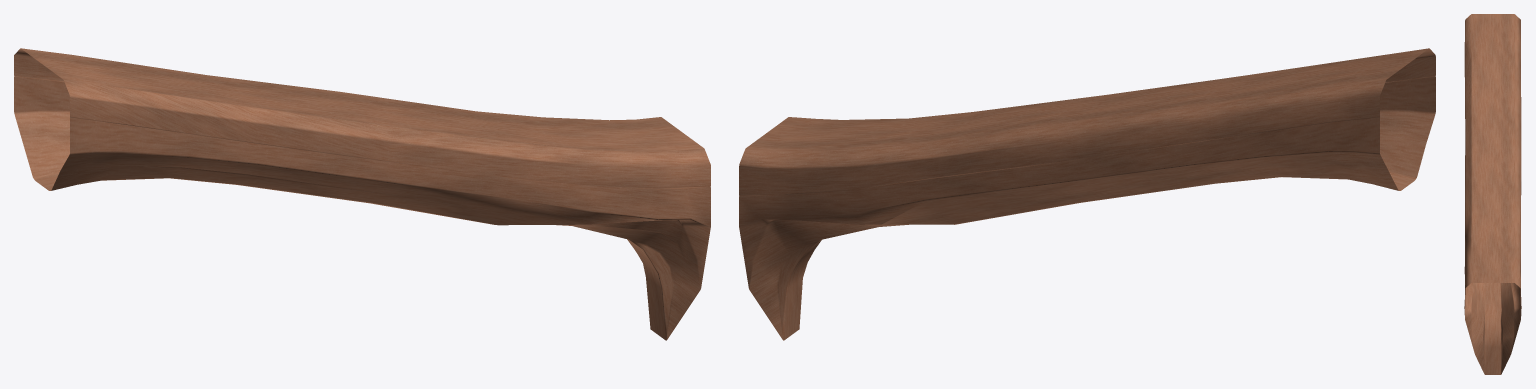
The model's file is Geonosis_Pillar01_Bridge02.fbx.
3 renders of one model, left to right at view 1: azimuth 30°, elevation 25°; view 2: azimuth 150°, elevation 25°; view 3: azimuth 270°, elevation 25°, orthographic. The views are drawn at different scales.
Visible parts, largest first — view 1: Geonosis_Pillar01_Bridge02; view 2: Geonosis_Pillar01_Bridge02; view 3: Geonosis_Pillar01_Bridge02.
Part boxes in pixels (x1,y1,x2,y2): Geonosis_Pillar01_Bridge02: [14, 48, 710, 340]; Geonosis_Pillar01_Bridge02: [739, 48, 1435, 340]; Geonosis_Pillar01_Bridge02: [1464, 14, 1521, 374].
Bounding box in the file's own units: 1502 × 944 × 232.
